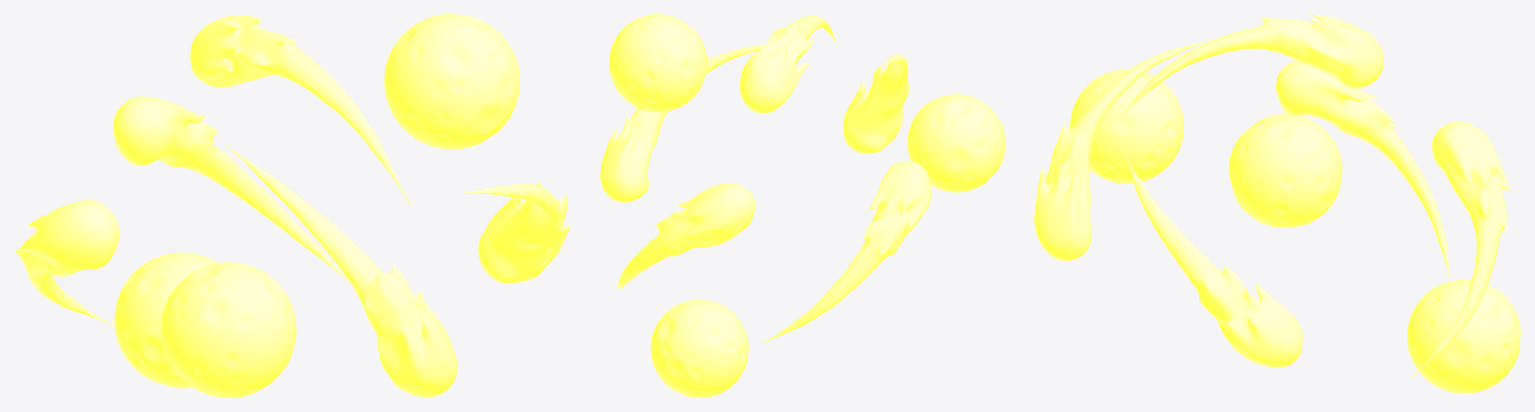
The model's file is Comets.fbx.
3 renders of one model, left to right at view 1: azimuth 30°, elevation 25°; view 2: azimuth 150°, elevation 25°; view 3: azimuth 270°, elevation 25°, orthographic. The views are drawn at different scales.
Visible parts, largest first — view 1: Comet_optimized_2, Comet_optimized_6, Comet_optimized_5, Comet_optimized_1, Comet_optimized_3, Comet_optimized_7, Comet_optimized_4, Comet_optimized_8; view 2: Comet_optimized_8, Comet_optimized_6, Comet_optimized_2, Comet_optimized_4, Comet_optimized_1, Comet_optimized_3, Comet_optimized_7, Comet_optimized_5; view 3: Comet_optimized_6, Comet_optimized_8, Comet_optimized_7, Comet_optimized_2, Comet_optimized_5, Comet_optimized_3, Comet_optimized_1, Comet_optimized_4.
Boxes of the visible parts, box(x1,y1,x2,y2) form: Comet_optimized_2: box(161, 262, 296, 397); Comet_optimized_6: box(384, 14, 519, 149); Comet_optimized_5: box(225, 145, 457, 397); Comet_optimized_1: box(112, 96, 351, 284); Comet_optimized_3: box(190, 15, 409, 204); Comet_optimized_7: box(459, 183, 571, 283); Comet_optimized_4: box(14, 200, 119, 325); Comet_optimized_8: box(114, 252, 217, 388); Comet_optimized_8: box(650, 299, 748, 397); Comet_optimized_6: box(609, 14, 707, 112); Comet_optimized_2: box(907, 94, 1005, 192); Comet_optimized_4: box(761, 161, 931, 343); Comet_optimized_1: box(618, 182, 755, 291); Comet_optimized_3: box(740, 15, 836, 113); Comet_optimized_7: box(600, 45, 763, 202); Comet_optimized_5: box(843, 54, 910, 153); Comet_optimized_6: box(1228, 114, 1342, 227); Comet_optimized_8: box(1407, 279, 1520, 393); Comet_optimized_7: box(1124, 152, 1302, 367); Comet_optimized_2: box(1070, 69, 1184, 183); Comet_optimized_5: box(1034, 38, 1217, 260); Comet_optimized_3: box(1115, 14, 1383, 122); Comet_optimized_1: box(1410, 121, 1510, 378); Comet_optimized_4: box(1276, 60, 1449, 281).
Bounding box in the file's own units: 2097 × 1818 × 2196.
